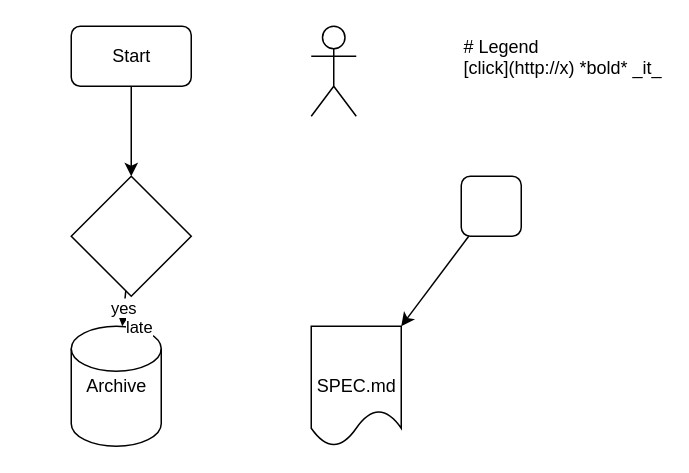
Some shapes in this 689 by 473 pixel diagram are drawn without their labels. Each missing label, with the centre of its shape:
Approved? "Yes, I reviewed" & signed: the point at 130,235
Reviewer: the point at 333,70
